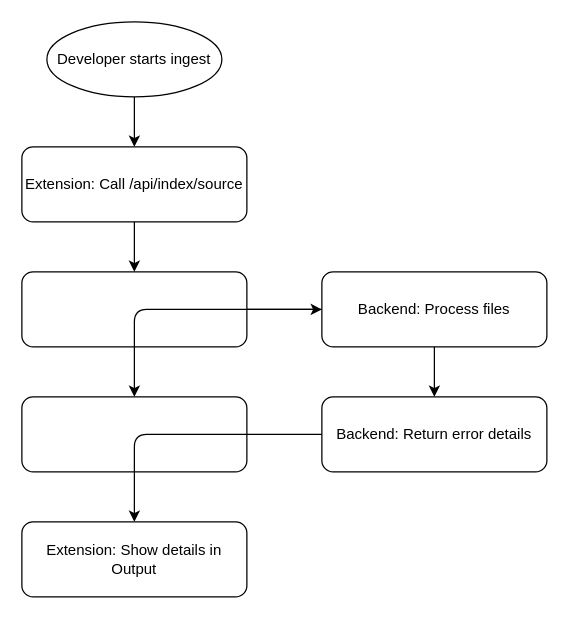
This 569x619 diagram has some shape labels left out. The centre of each missing label's shape, as x and y in pixels:
Backend: Validate request: [134,309]
KB: Store symbols/docs: [134,434]
